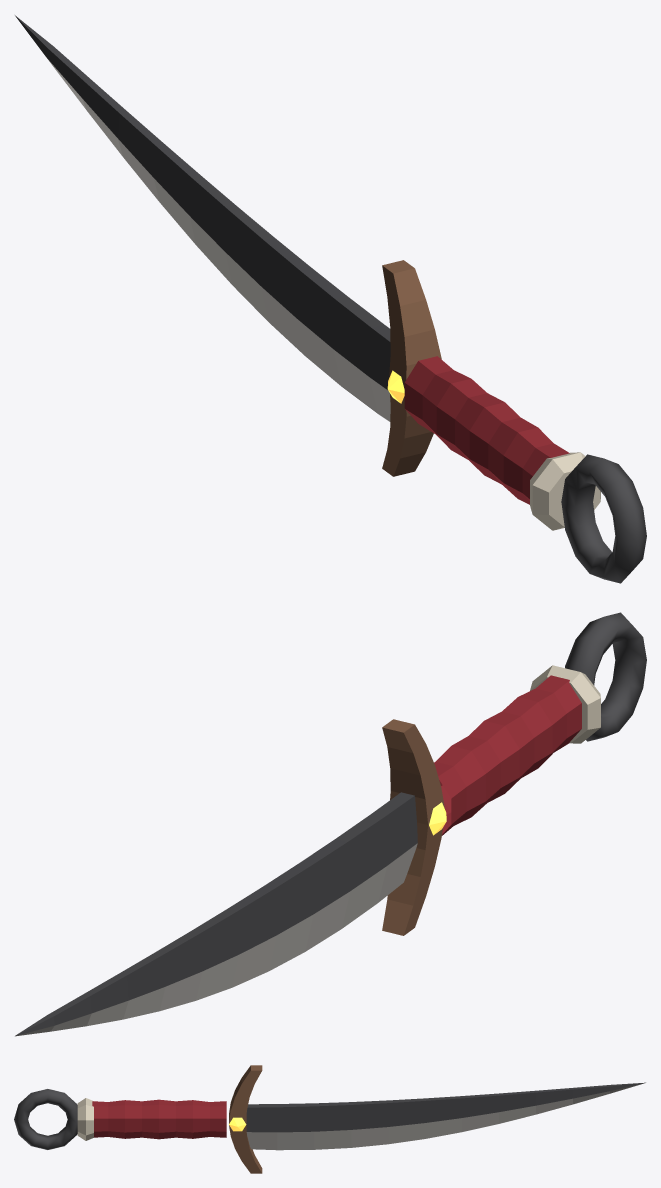
The model's file is held-dagger.glb.
3 views of the same model, one above another, from view 1: azimuth 30°, elevation 25°; view 2: azimuth 150°, elevation 25°; view 3: azimuth 270°, elevation 25° (orthographic). The views are drawn at different scales.
Visible parts, largest first — view 1: blade, grip, pommel_ring, crossguard, pommel_collar; view 2: blade, grip, crossguard, pommel_ring, pommel_collar; view 3: blade, grip, pommel_ring, crossguard, pommel_collar, gem_r.
Boxes of the visible parts, x1,y1,x2,y2 form: blade: [15, 15, 390, 421]; grip: [404, 356, 569, 504]; pommel_ring: [561, 454, 646, 583]; crossguard: [382, 260, 441, 476]; pommel_collar: [530, 452, 600, 530]; blade: [15, 792, 417, 1036]; grip: [434, 675, 581, 835]; crossguard: [382, 719, 444, 935]; pommel_ring: [565, 612, 646, 741]; pommel_collar: [530, 665, 600, 743]; blade: [246, 1082, 645, 1150]; grip: [92, 1099, 226, 1139]; pommel_ring: [14, 1089, 77, 1149]; crossguard: [229, 1065, 262, 1173]; pommel_collar: [77, 1098, 93, 1140]; gem_r: [229, 1117, 246, 1131].
Size of what is drawn, in the model's own units: 0.0296 by 0.084 by 0.467.
